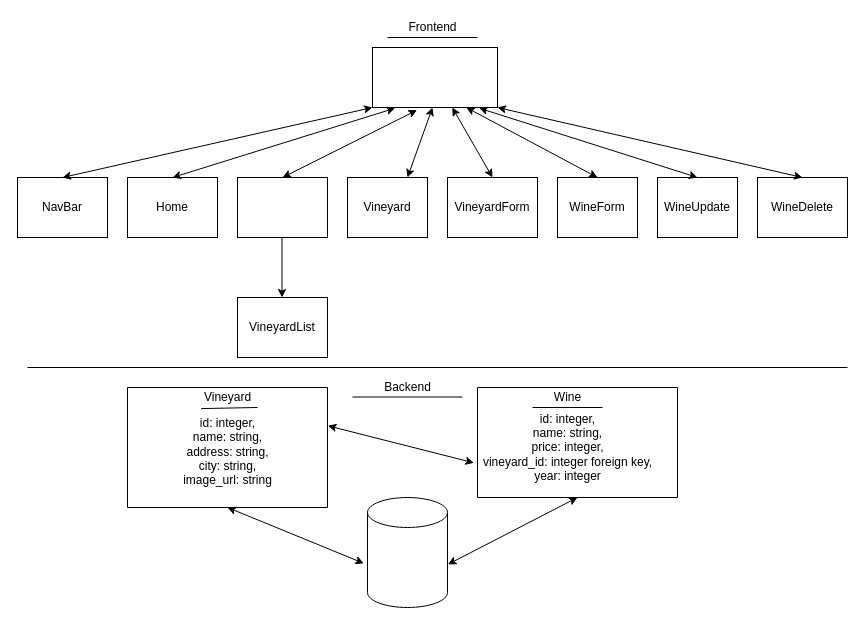
The diagram is 866 pixels wide and 625 high, and some of its shapes have lost their labels. The shapes that lost their labels are listed below. From the top down, each one's box as (x1, y1, x2, y2) in pixels, then its label:
(372, 46, 498, 108): App
(236, 176, 328, 238): Vineyards
(366, 496, 448, 608): SQL Lite
